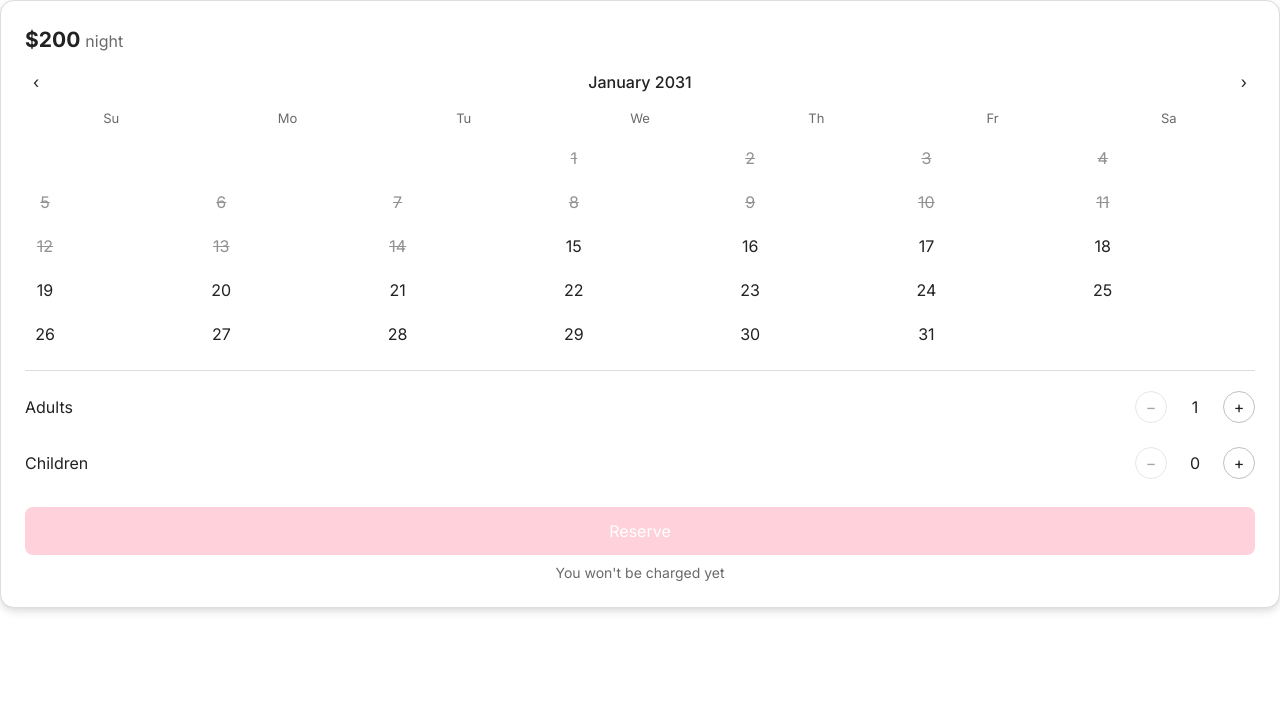
Scenario: ReservationPanel › picking dates in the card turns the bar into a Reserve link with the same href
What coordinates should you click on to do the following:
click the button named "Next month"
I would click on:
 (1244, 82)
Its box is x1=1233 y1=70 x2=1255 y2=94.
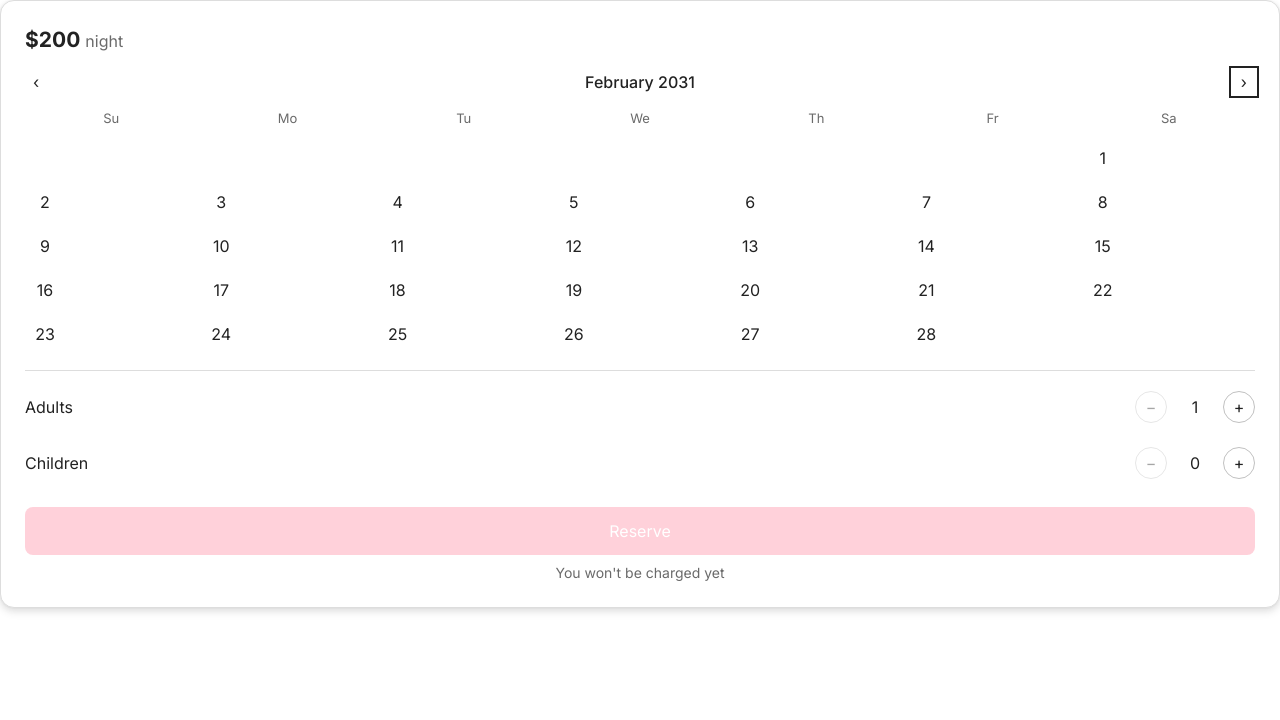
What coordinates should you click on to do the following:
click the button "1"
I would click on:
 (1103, 158)
Its box is x1=1083 y1=138 x2=1123 y2=178.
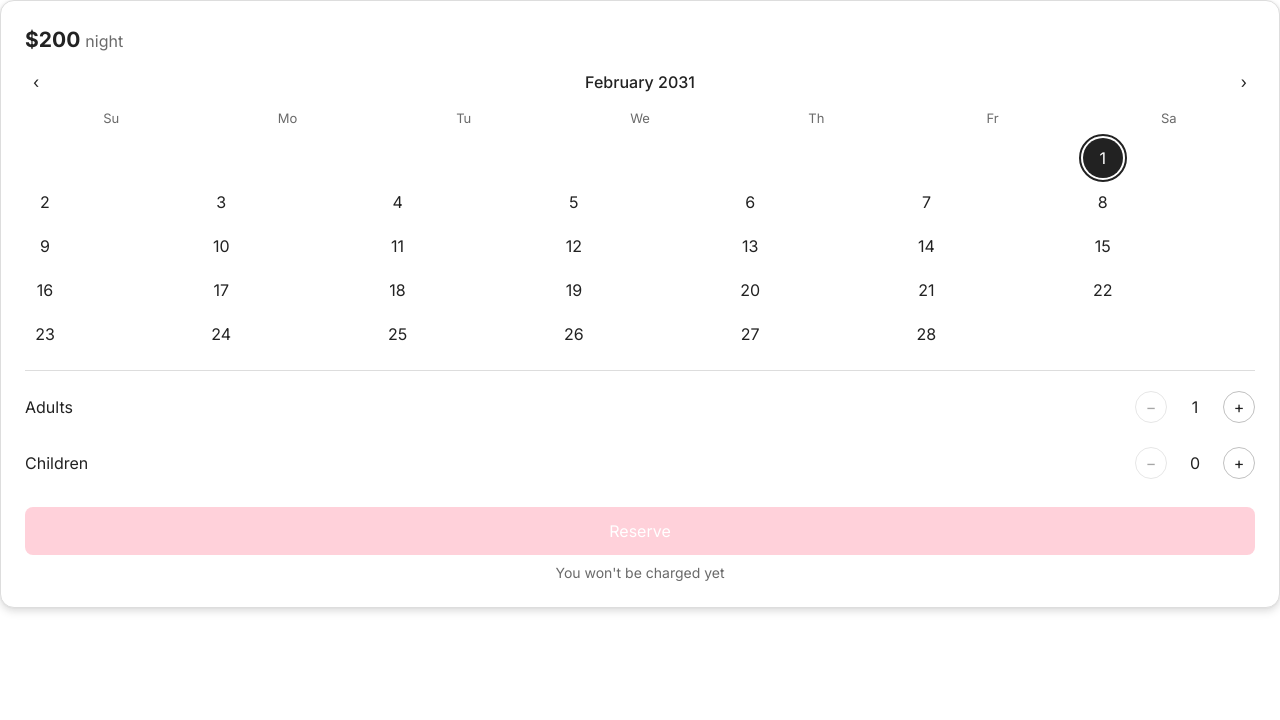
What coordinates should you click on to do the following:
click the button "3"
I would click on:
 (221, 202)
Its box is x1=201 y1=182 x2=241 y2=222.
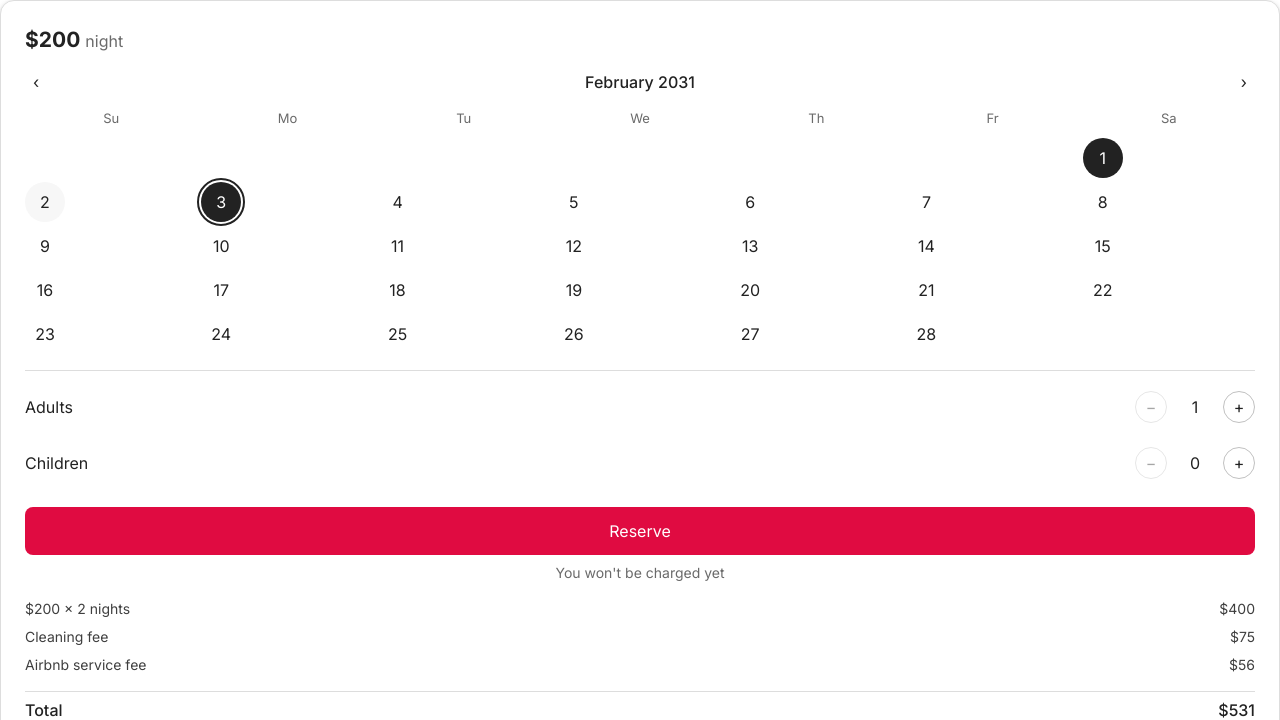
Result: the number of links "Reserve" is 2
